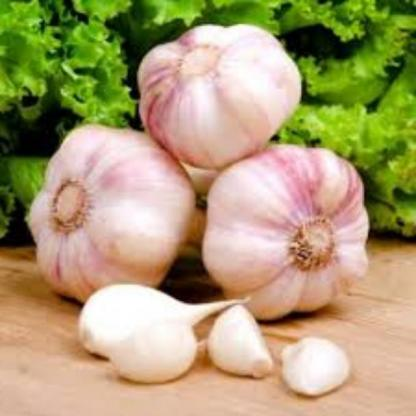garlic: (29, 120, 202, 304), (198, 145, 374, 315), (128, 17, 304, 173), (77, 280, 232, 386), (206, 300, 288, 384), (277, 326, 350, 406)
